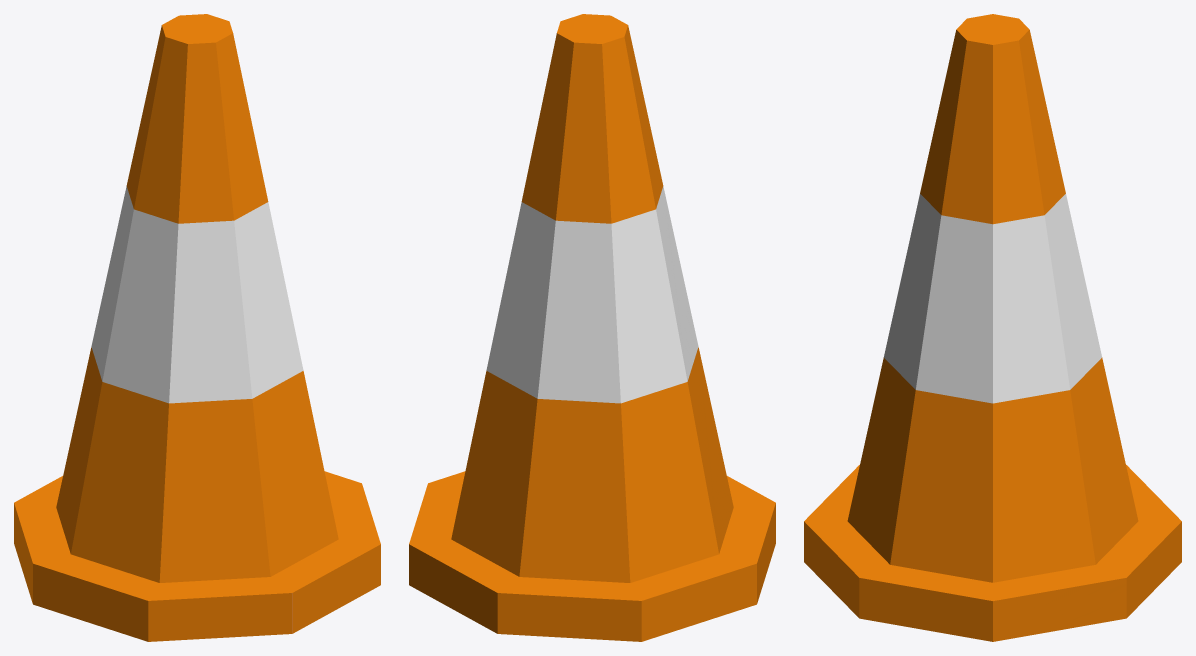
3 views of the same model, side by side, from view 1: azimuth 30°, elevation 25°; view 2: azimuth 150°, elevation 25°; view 3: azimuth 270°, elevation 25° (orthographic).
Parts seen in each view (by area): view 1: Cylinder; view 2: Cylinder; view 3: Cylinder.
Part boxes in pixels (<box>): Cylinder: <box>14,14,380,641</box>; Cylinder: <box>409,14,775,641</box>; Cylinder: <box>804,14,1181,641</box>.
Size of the model in its own units: 200 by 200 by 311.
